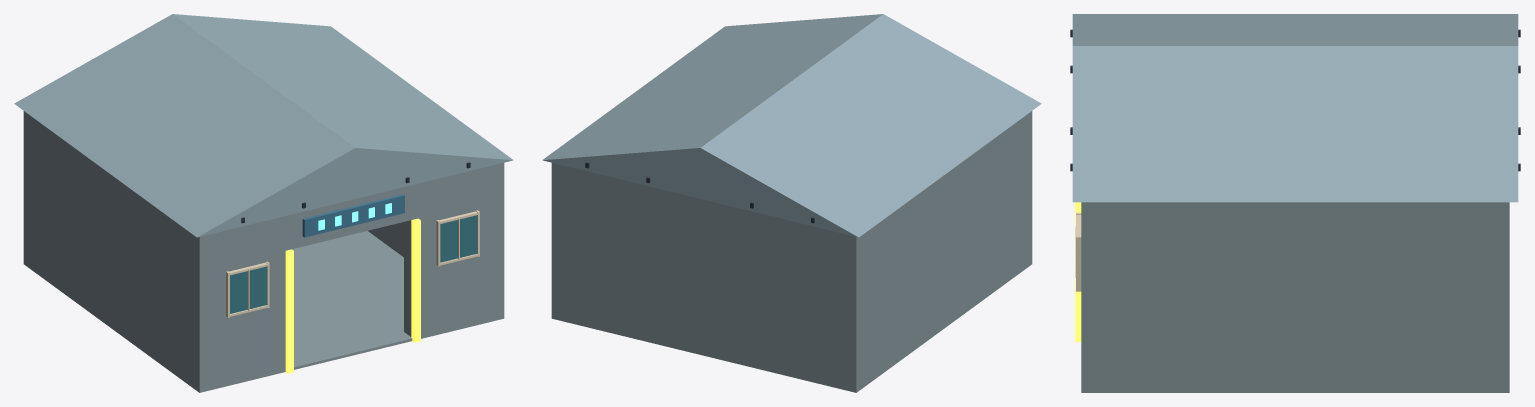
The model's file is Warehouse.fbx.
The picture shows the model from 3 angles, left to right: view 1: azimuth 30°, elevation 25°; view 2: azimuth 150°, elevation 25°; view 3: azimuth 270°, elevation 25°; orthographic projection. The views are drawn at different scales.
Visible parts, largest first — view 1: Warehouse_RenderMesh; view 2: Warehouse_RenderMesh; view 3: Warehouse_RenderMesh.
Part boxes in pixels (x1=…): Warehouse_RenderMesh: x1=14, y1=14, x2=513, y2=392; Warehouse_RenderMesh: x1=542, y1=14, x2=1041, y2=392; Warehouse_RenderMesh: x1=1070, y1=14, x2=1520, y2=392.
Bounding box in the file's own units: 10.4 × 6.6 × 10.5.
